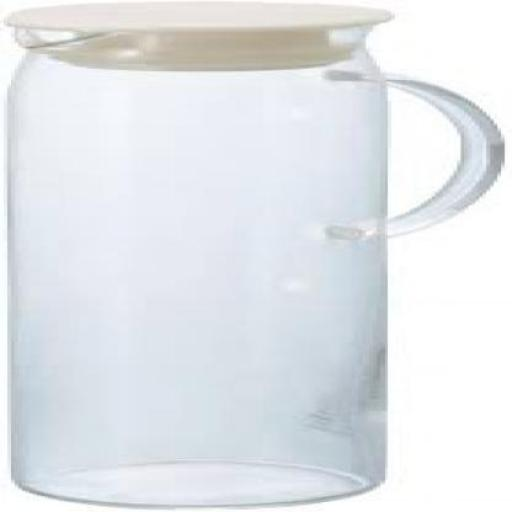glass: (0, 44, 501, 511)
plastic: (0, 0, 384, 71)
